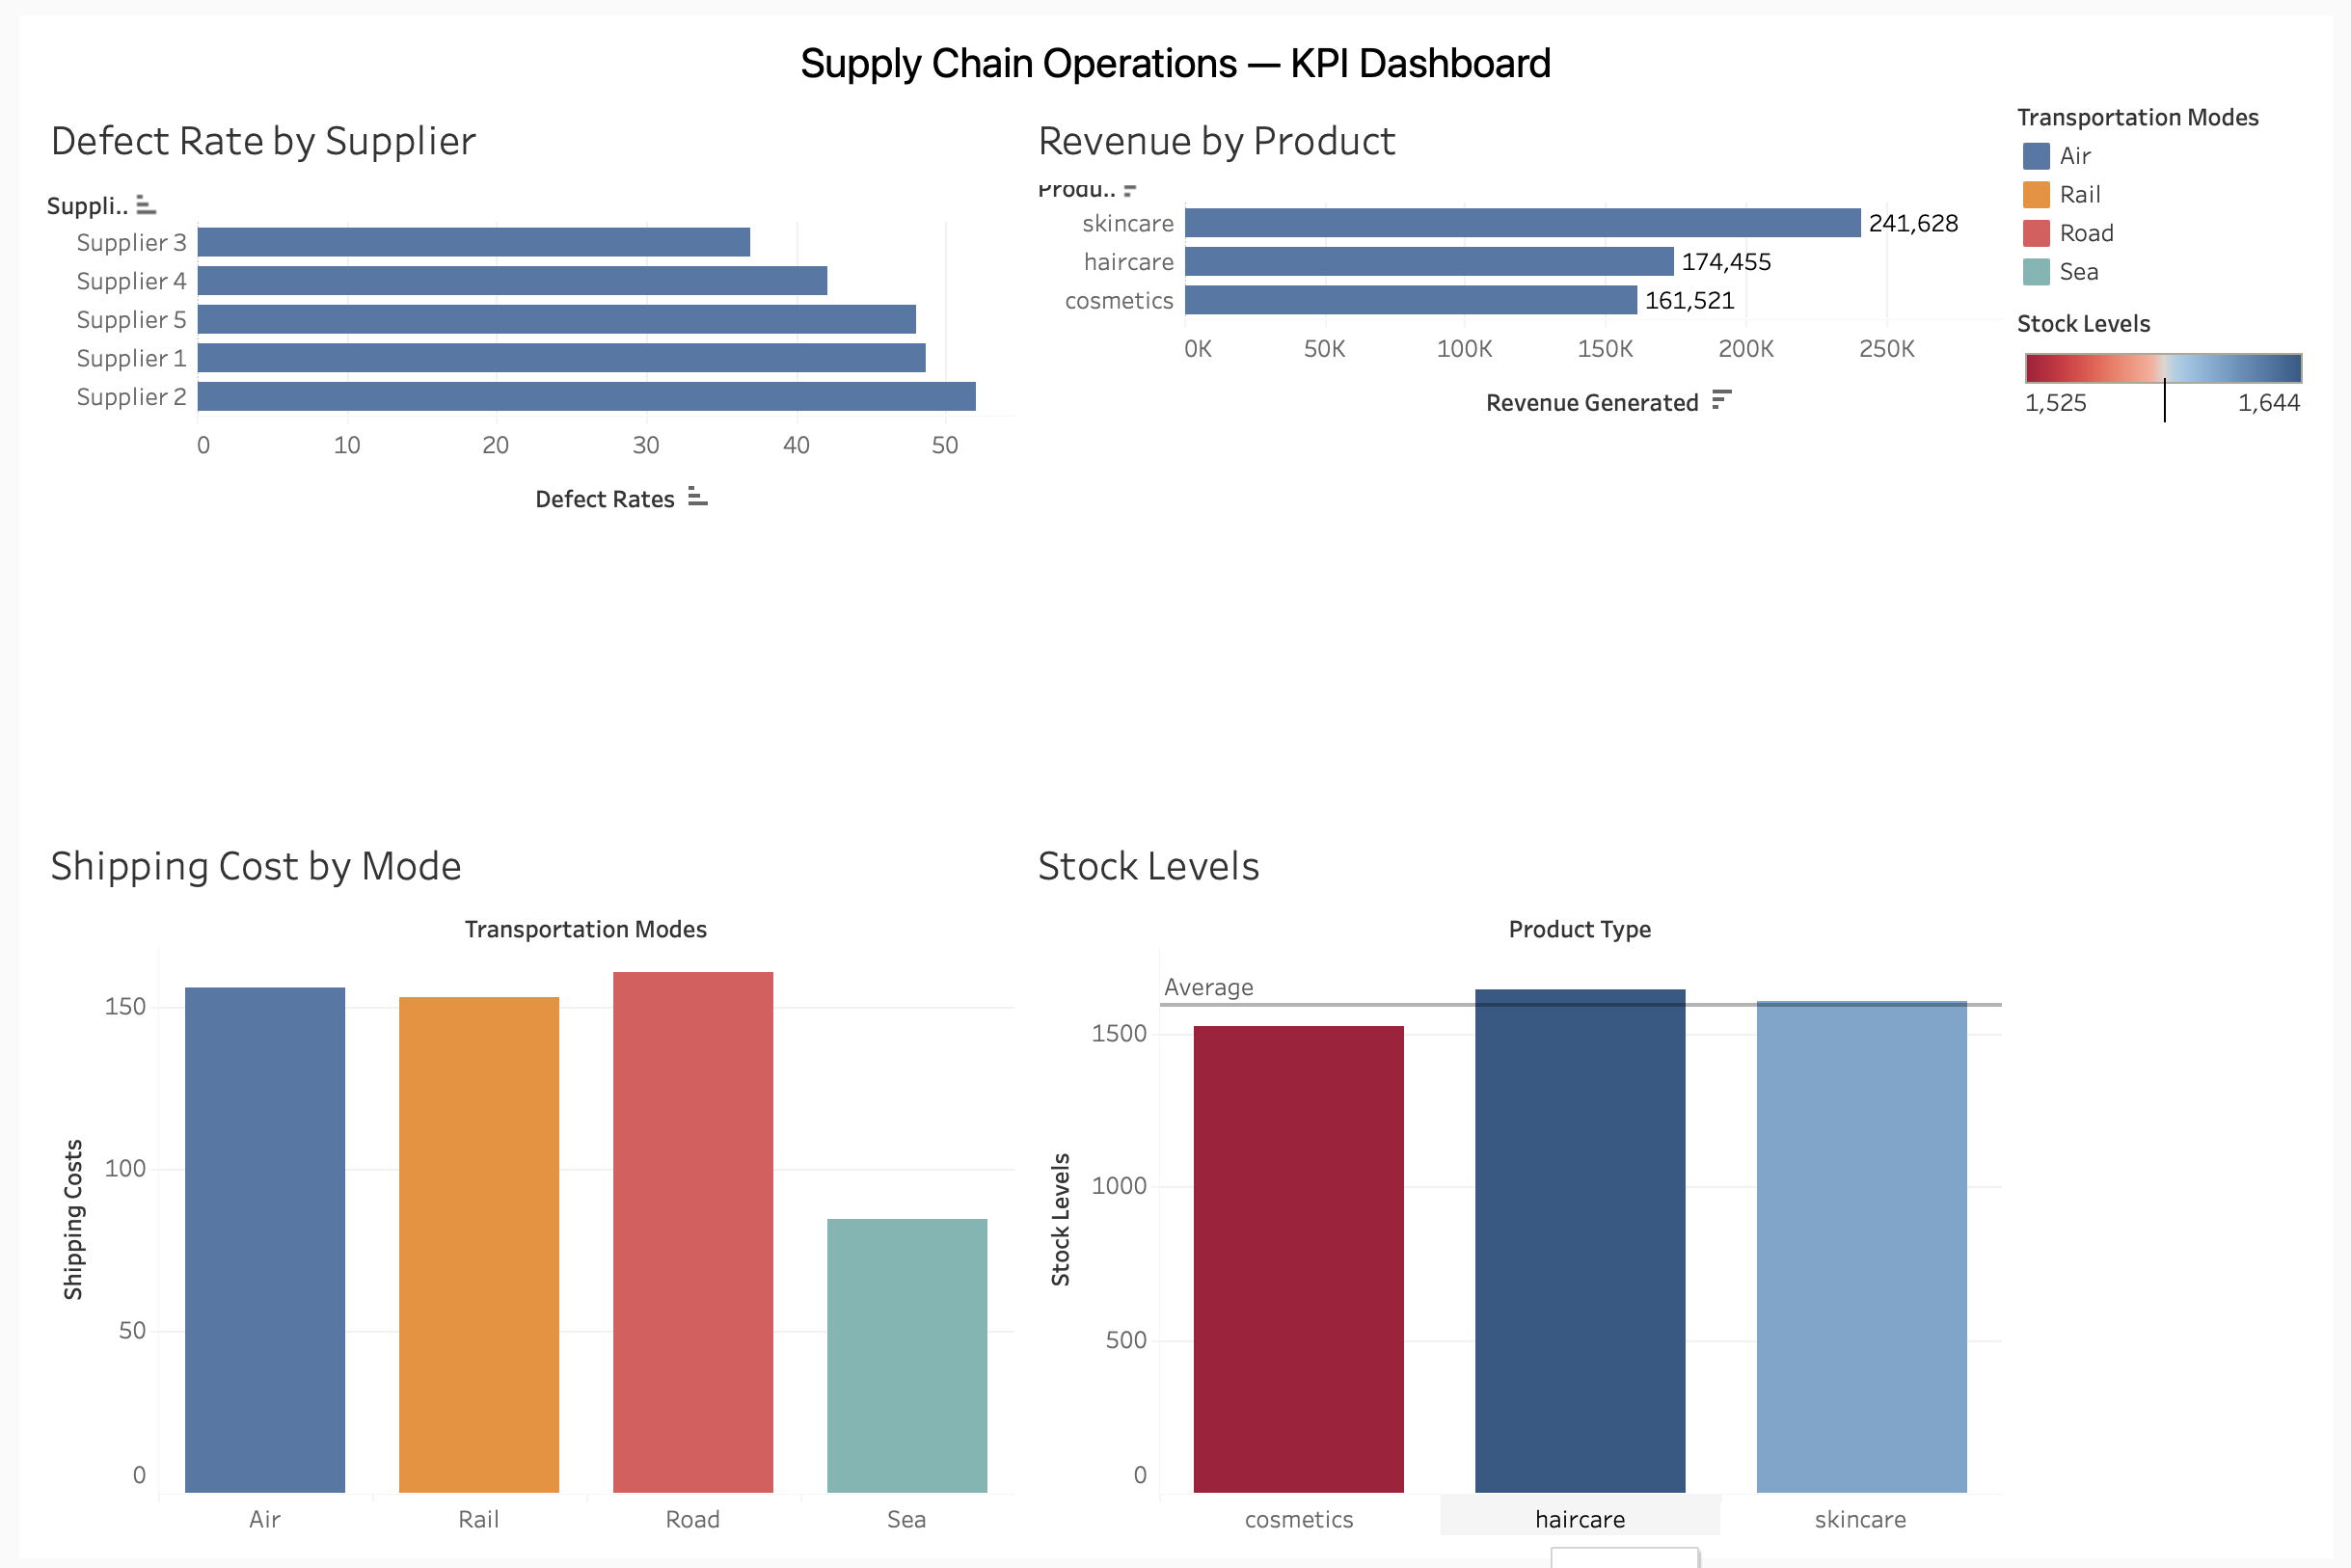

The dashboard page shown, as its layout file describes it:
{"tool":"tableau","page":{"name":"Dashboard 1","canvas":[1200,800],"ordinal":0},"visuals":[{"type":"text","box":[8,8,1184,32]},{"type":"worksheet","title":"Defect Rate by Supplier","mark":"Bar","rows":["supplier_name"],"cols":["defect_rates"],"box":[8,40,512,376]},{"type":"worksheet","title":"Revenue by Product","mark":"Automatic","rows":["product_type"],"cols":["revenue_generated"],"box":[520,40,512,376]},{"type":"legend","title":"Shipping Cost by Mode","param":"[federated.0tdnp4h1hdqww61gs65gv1iewyuu].[none:transportation_modes:nk]","box":[1032,40,160,106]},{"type":"legend","title":"Stock Levels","param":"[federated.0tdnp4h1hdqww61gs65gv1iewyuu].[sum:stock_levels:qk]","box":[1032,146,160,65]},{"type":"worksheet","title":"Shipping Cost by Mode","mark":"Bar","rows":["shipping_costs"],"cols":["transportation_modes"],"box":[8,416,512,376]},{"type":"worksheet","title":"Stock Levels","mark":"Automatic","rows":["stock_levels"],"cols":["product_type"],"box":[520,416,512,376]}]}

Visuals, with their boxes in screenshot pixels (x1, y1, x2, y2), scaled from the page's 1200x800 canvas onto the 2351x1568 screenshot:
text: bbox=(15, 15, 2336, 78)
"Defect Rate by Supplier" worksheet (Bar marks): bbox=(15, 78, 1018, 816)
"Revenue by Product" worksheet: bbox=(1018, 78, 2022, 816)
"Shipping Cost by Mode" legend: bbox=(2022, 78, 2336, 286)
"Stock Levels" legend: bbox=(2022, 286, 2336, 414)
"Shipping Cost by Mode" worksheet (Bar marks): bbox=(15, 816, 1018, 1553)
"Stock Levels" worksheet: bbox=(1018, 816, 2022, 1553)
